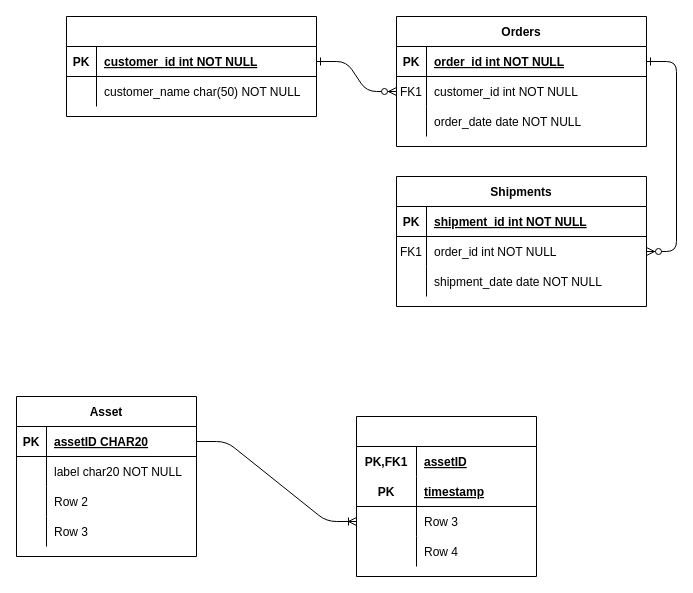
Image size: 693x593. Some labels were removed from this diagram. Here are the shapes that lost their labels. From the top down, the box of each, then its label:
(66, 16, 316, 116): Customers
(356, 416, 536, 576): Readings
